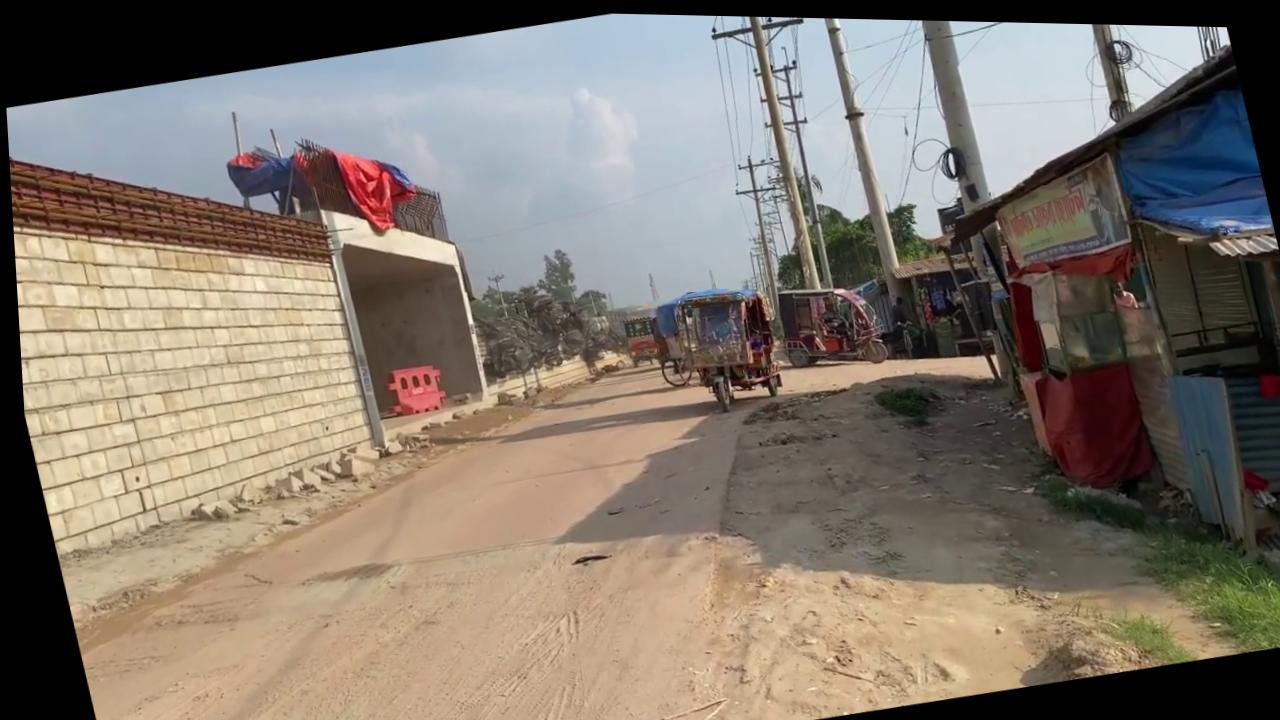Muddy road: (19, 253, 1237, 720)
Pole: (814, 14, 912, 324), (907, 16, 1011, 293), (737, 13, 822, 288), (1074, 19, 1131, 114)
Tree: (639, 273, 787, 418), (766, 270, 887, 375), (615, 309, 659, 364)
